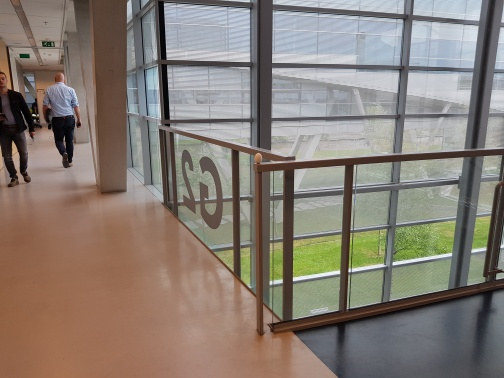egg: (252, 152, 264, 165)
